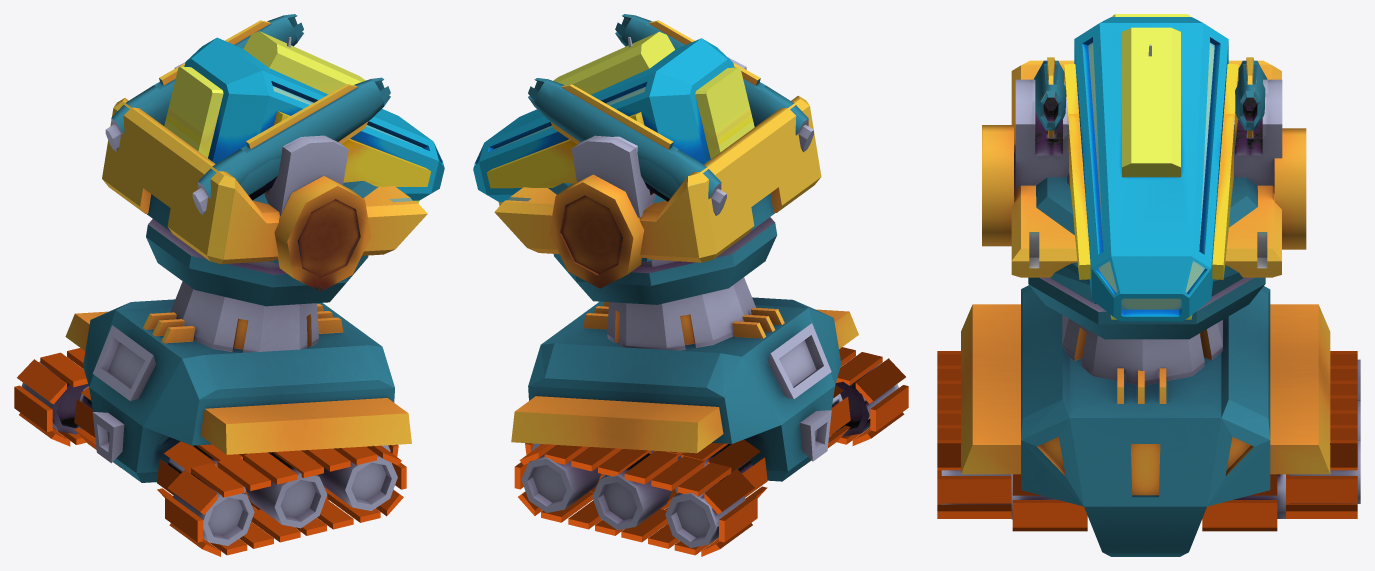
Rendered from Player_move_2_Upgrade19.obj.
The picture shows the model from 3 angles, left to right: view 1: azimuth 30°, elevation 25°; view 2: azimuth 150°, elevation 25°; view 3: azimuth 270°, elevation 25°; orthographic projection. The views are drawn at different scales.
Visible parts, largest first — view 1: Object015, Box020, Object014, Box018, Box019, Box017, Box016; view 2: Object015, Box019, Object014, Box018, Box020, Box016, Box017; view 3: Object015, Box019, Box020, Object014, Box017, Box016, Box018, Box009.
Boxes of the visible parts, box(x1,y1,x2,y2) form: Object015: box(65, 31, 444, 482); Box020: box(165, 445, 406, 556); Object014: box(105, 14, 390, 215); Box018: box(21, 361, 397, 545); Box019: box(14, 348, 95, 446); Box017: box(157, 441, 398, 510); Box016: box(74, 387, 120, 467); Object015: box(473, 31, 858, 481); Box019: box(514, 444, 757, 556); Object014: box(528, 14, 813, 215); Box018: box(521, 363, 898, 547); Box020: box(829, 347, 908, 445); Box016: box(525, 439, 767, 510); Box017: box(804, 385, 850, 465); Object015: box(961, 14, 1330, 556); Box019: box(1286, 351, 1357, 518); Box020: box(937, 351, 1011, 518); Object014: box(1033, 57, 1267, 137); Box017: box(1012, 474, 1087, 531); Box016: box(1202, 474, 1277, 531); Box018: box(941, 359, 1360, 504); Box009: box(1011, 474, 1285, 519).
Bounding box in the file's own units: 70.38 × 88.9 × 68.55.
6 materials, 4 textured.
